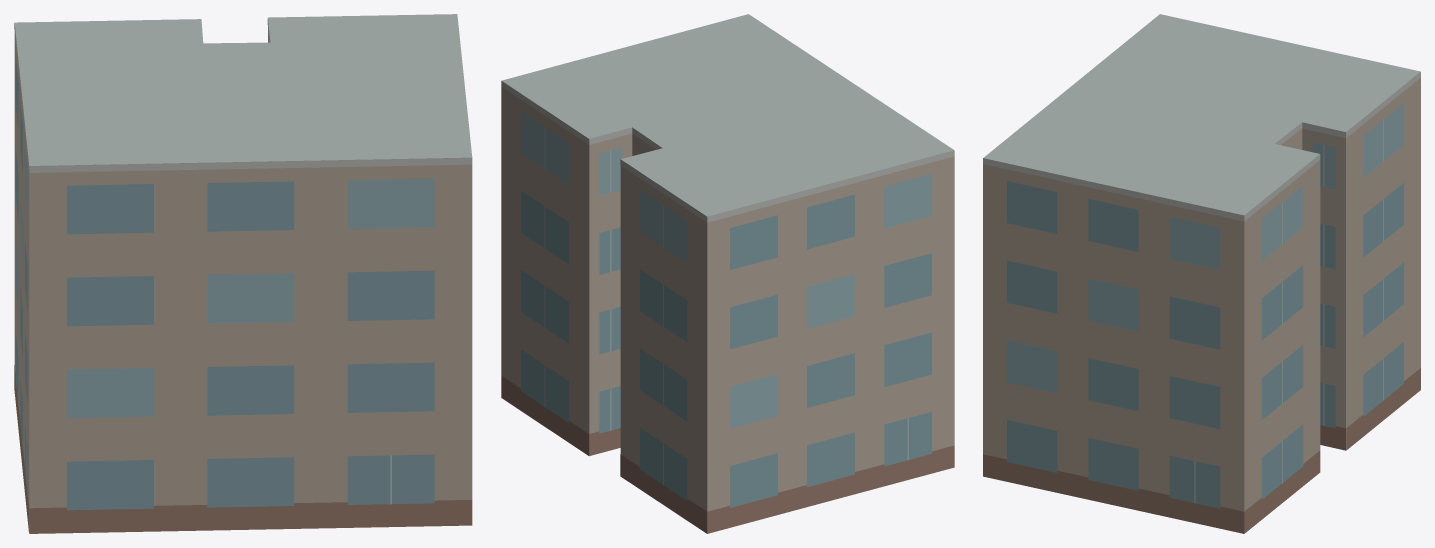
The model's file is survey-upis-32918987.glb.
3 renders of one model, left to right at view 1: azimuth 30°, elevation 25°; view 2: azimuth 150°, elevation 25°; view 3: azimuth 270°, elevation 25°, orthographic. The views are drawn at different scales.
Parts seen in each view (by area): view 1: survey-upis-32918987.tmp; view 2: survey-upis-32918987.tmp; view 3: survey-upis-32918987.tmp.
Part boxes in pixels (x1,y1,x2,y2): survey-upis-32918987.tmp: (14, 14, 472, 533); survey-upis-32918987.tmp: (501, 14, 954, 533); survey-upis-32918987.tmp: (983, 14, 1420, 533).
Bounding box in the file's own units: 17.37 × 12.8 × 15.96.
